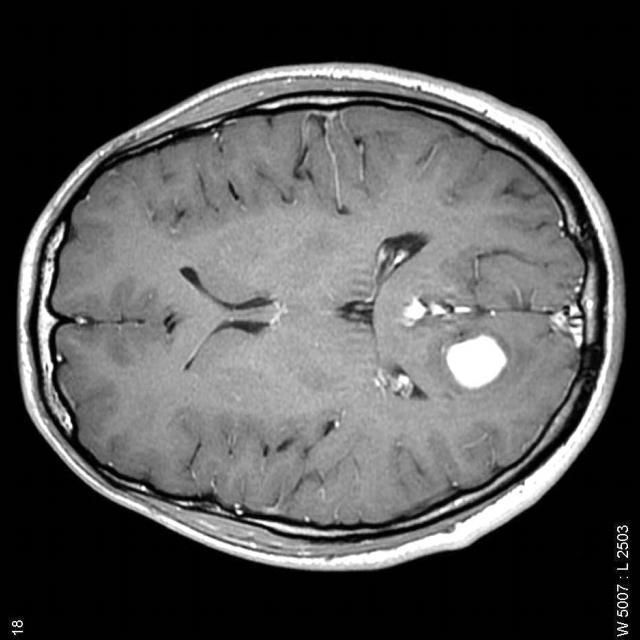tumor: (443, 329, 510, 395)
